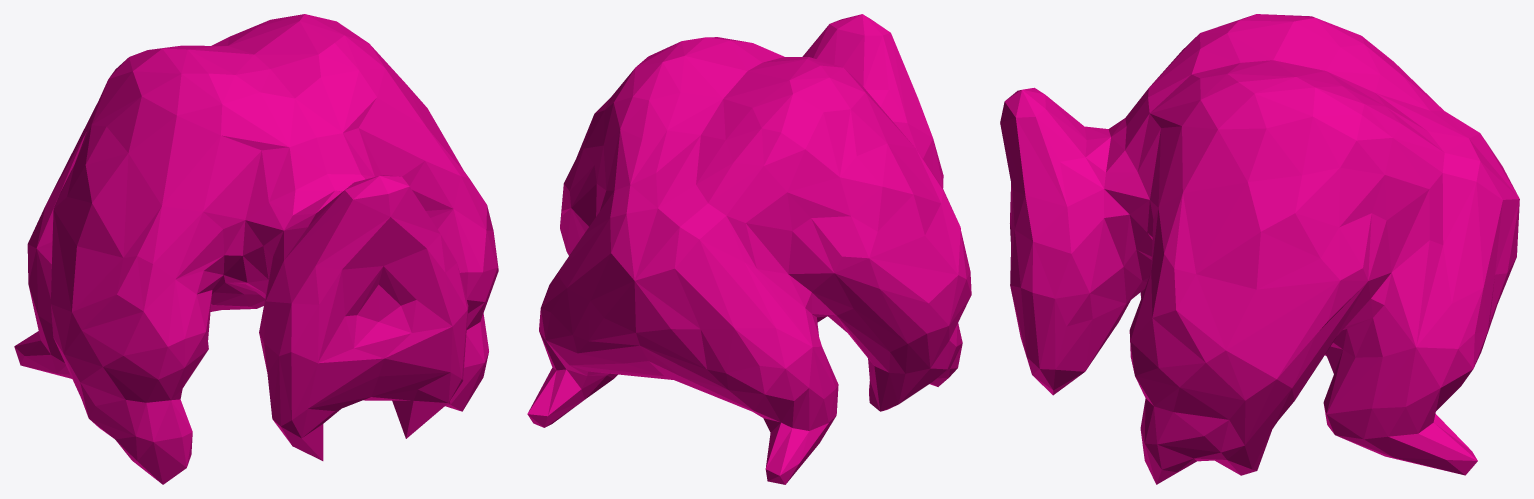
File: grizzle.fbx
The picture shows the model from 3 angles, left to right: view 1: azimuth 30°, elevation 25°; view 2: azimuth 150°, elevation 25°; view 3: azimuth 270°, elevation 25°; orthographic projection. The views are drawn at different scales.
Parts seen in each view (by area): view 1: Group64561; view 2: Group64561; view 3: Group64561.
Part boxes in pixels (box(x1,y1,x2,y2)): Group64561: box(14, 14, 498, 484); Group64561: box(527, 14, 971, 484); Group64561: box(1000, 14, 1519, 484).
Size of the model in its own units: 11.11 by 9.33 by 12.12.
